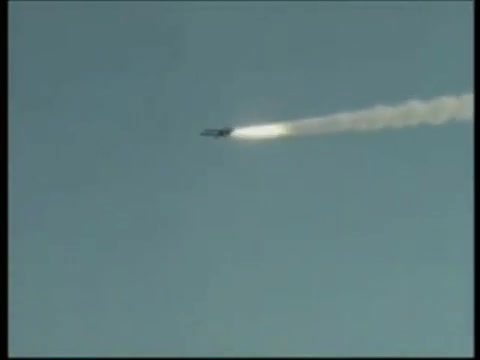aeroplane: (200, 126, 236, 141)
